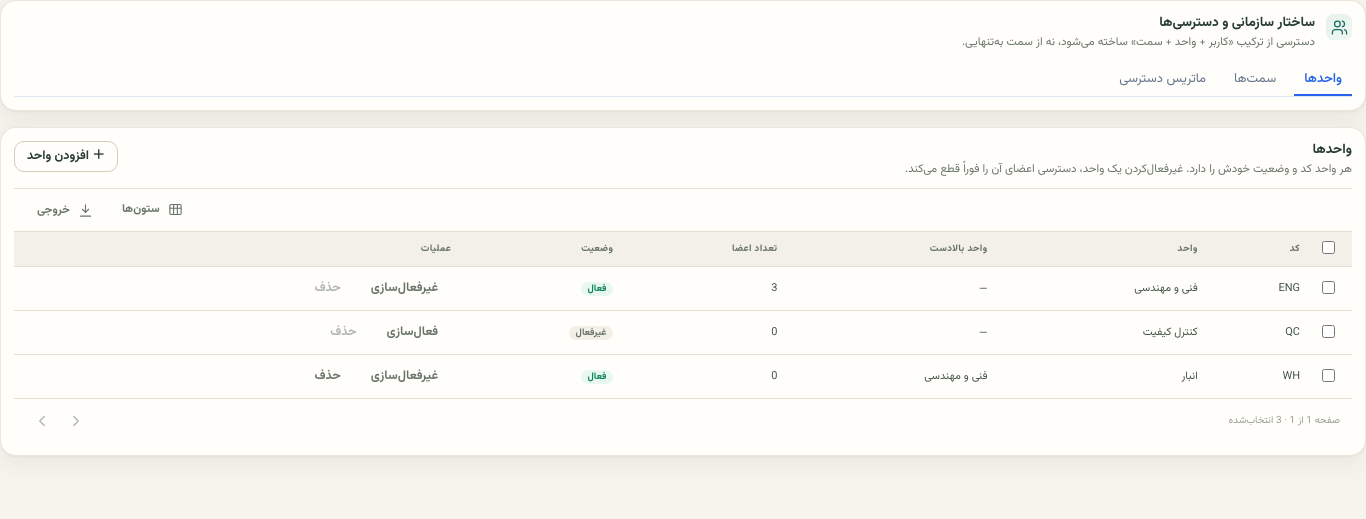
organisation structure page — units › warns that deactivating a unit cuts off its members immediately
Expected: the text "ENG" is shown, [1207, 267, 1309, 311]
Click the button "غیرفعال‌سازی" in the row of "ENG" at {"x": 404, "y": 289}, box [358, 273, 451, 304]
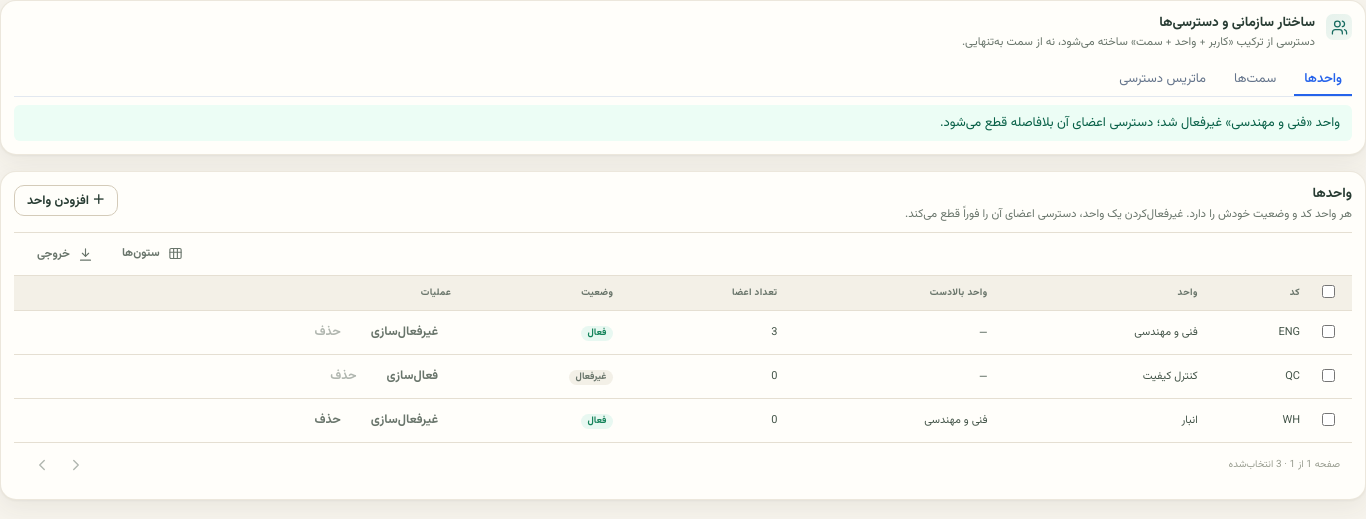
Expected: the text "دسترسی اعضای آن بلافاصله قطع می‌شود" is shown, [940, 113, 1340, 133]
